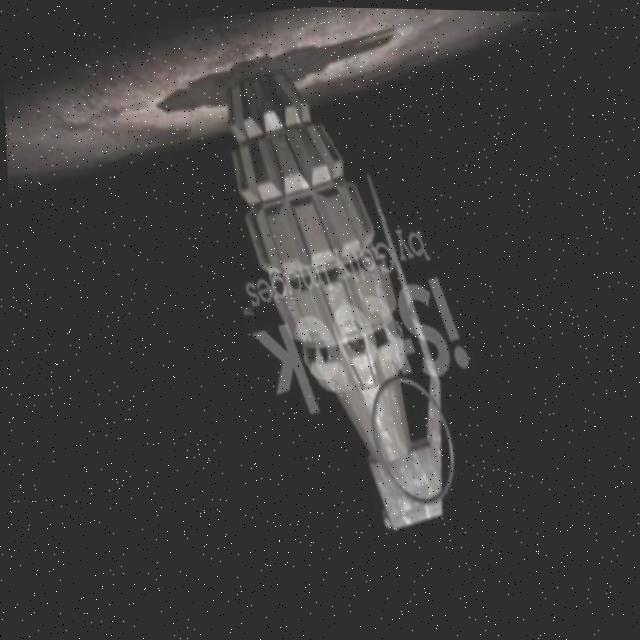grenade: (191, 32, 490, 560)
